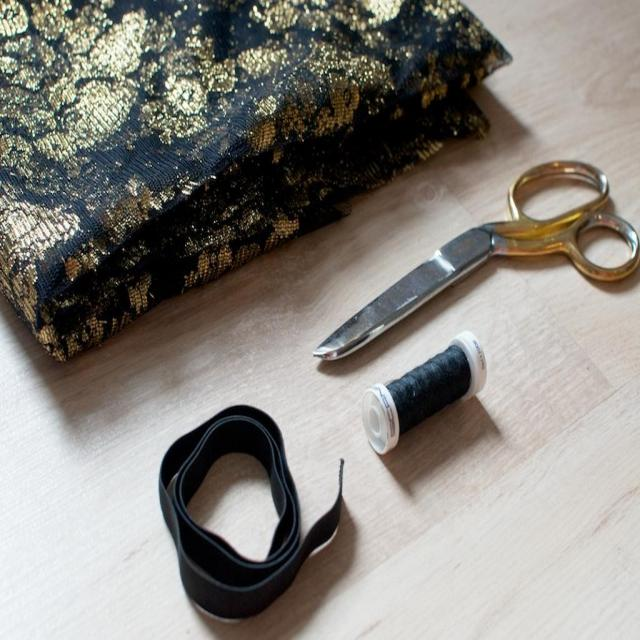scissor: (312, 152, 639, 362)
